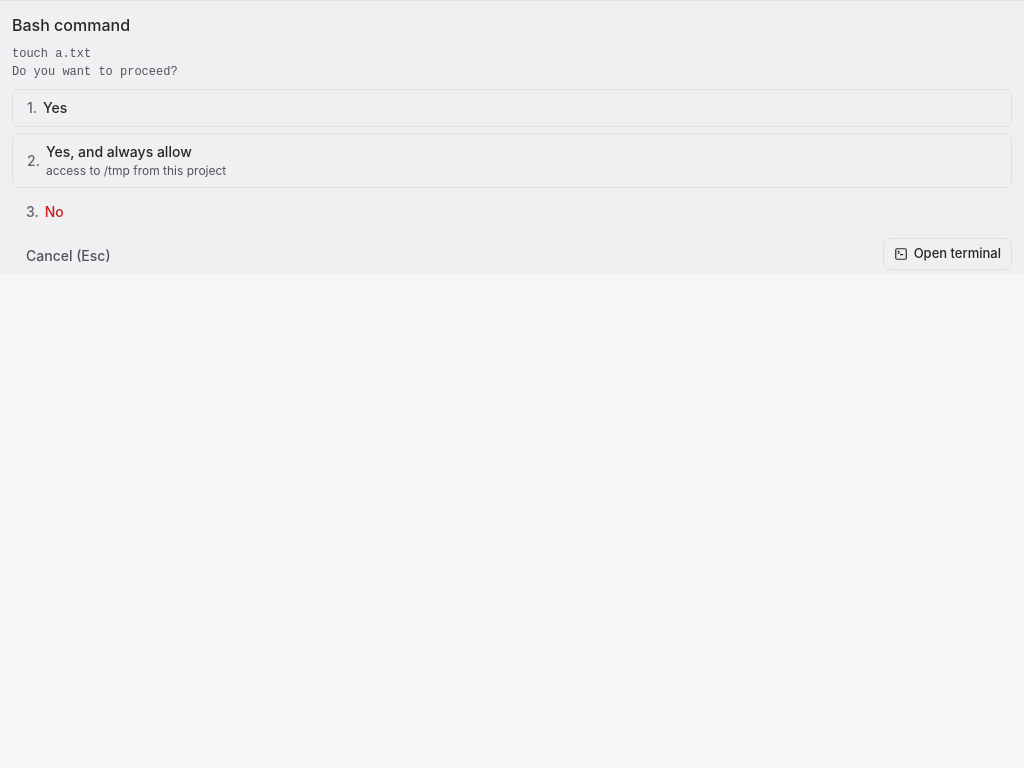
Scenario: PromptCard › a changed screen replaces the card and says why
The width and height of the screenshot is (1024, 768).
Click the button "1. Yes" at (30, 108), box [12,89,1012,127]
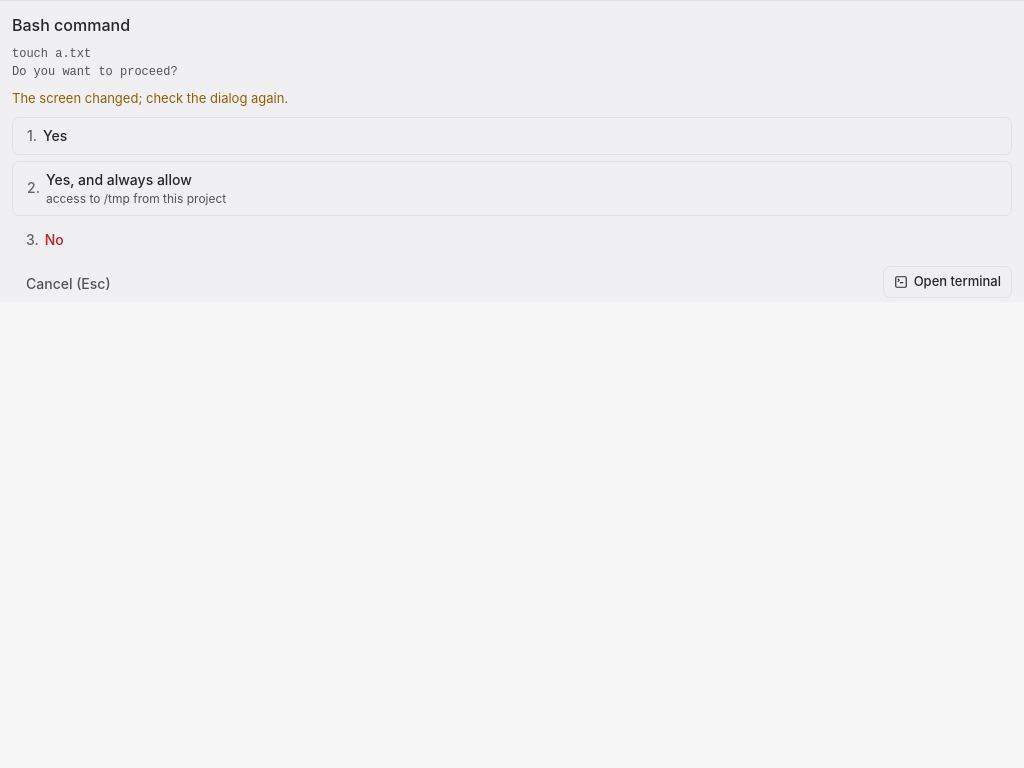
Expected: the text "The screen changed; check the dialog again." is shown, [12,90,288,106]
